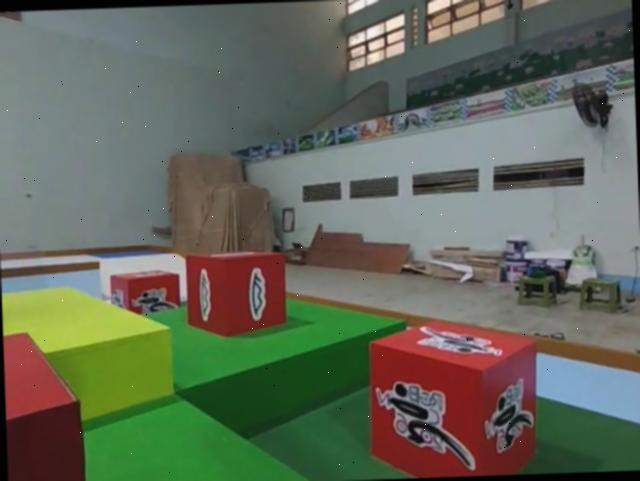R1: (368, 316, 543, 480), (110, 270, 182, 326)
R2 Real: (185, 251, 288, 338)
